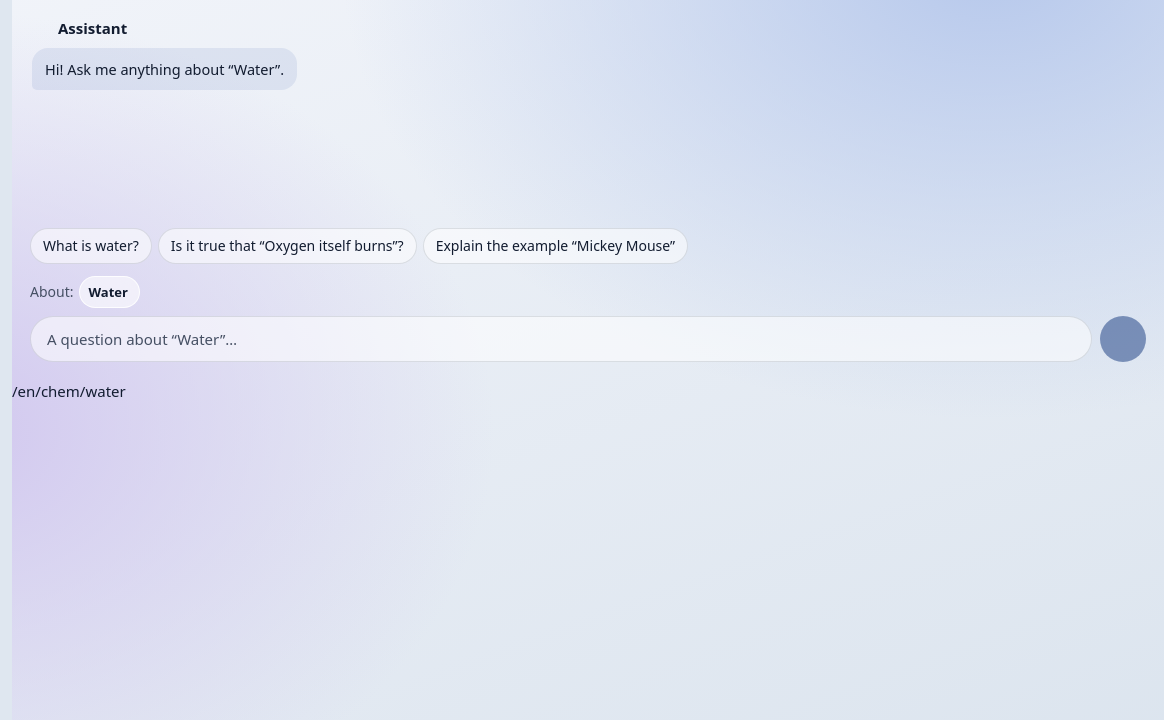
Test: AssistantPanel (W-32) › greets, offers suggestions, streams an SSE answer and highlights cited structures in 3D
The image size is (1164, 720).
Expected: the text "Hi! Ask me anything about “Water”." is shown, [32, 48, 297, 90]
Expected: the button "What is water?" is shown, [30, 228, 152, 264]
In the field named "Question for the assistant": {"x": 561, "y": 339} [30, 316, 1092, 362], type "What is oxygen?"
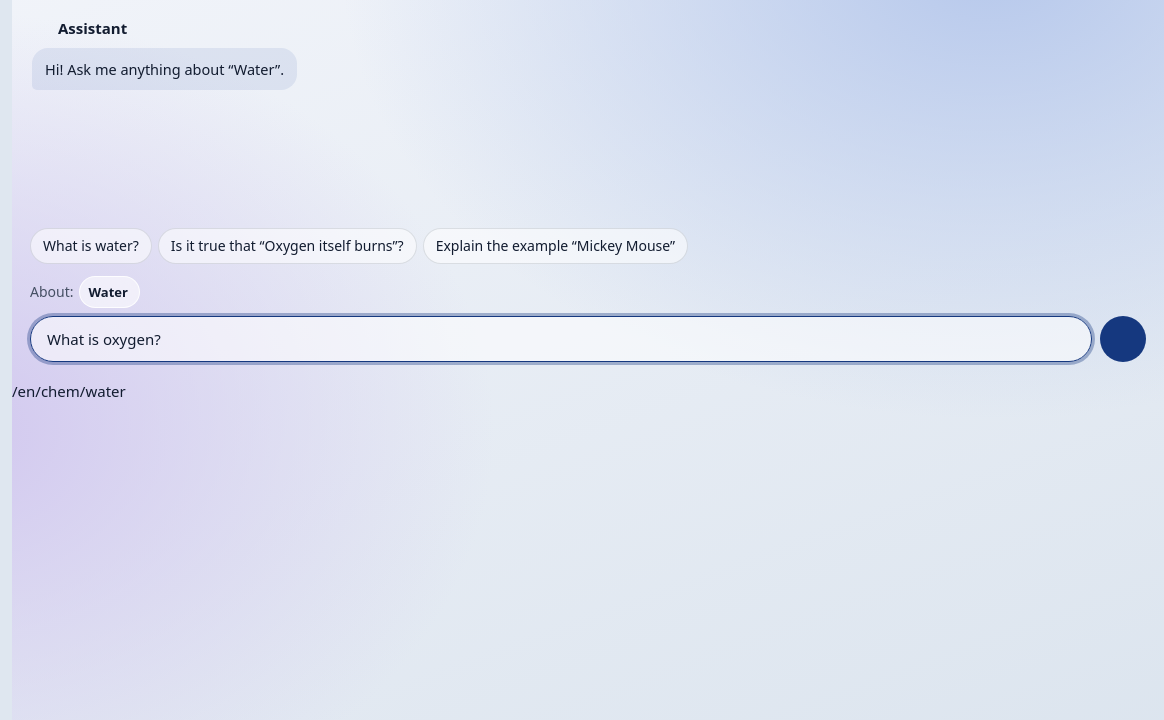
Click the button named "Send": {"x": 1123, "y": 339} [1100, 316, 1146, 362]
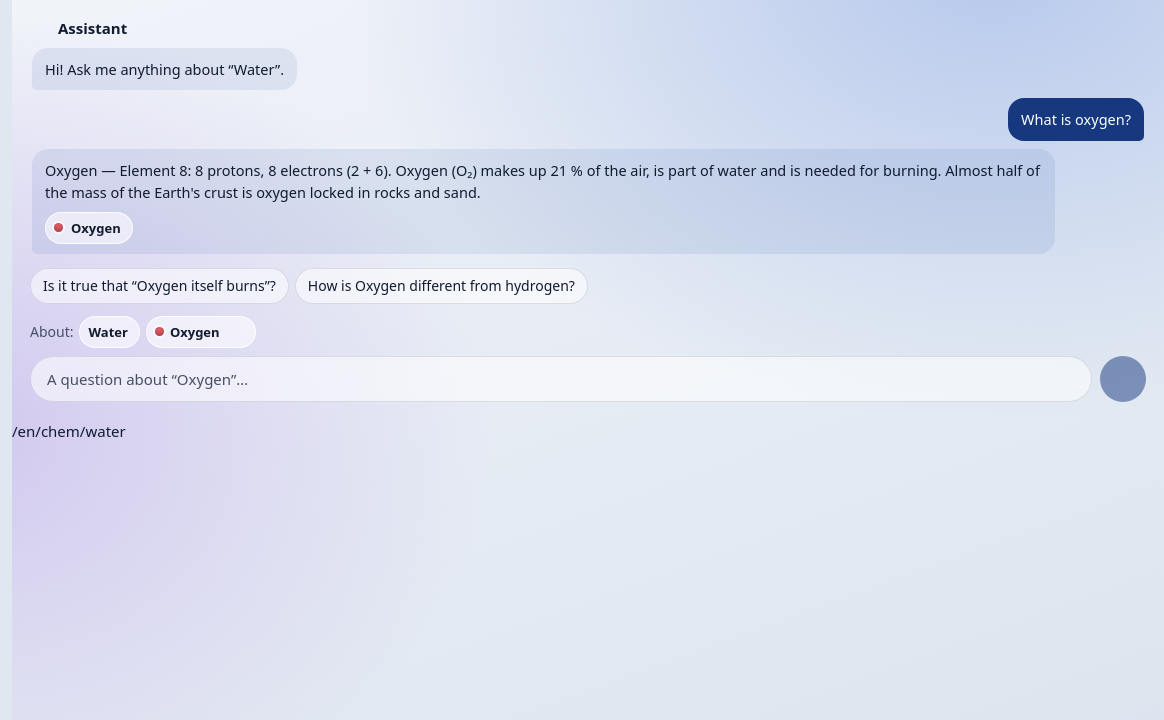
Now the button with aria-label "Show on the model: Oxygen" is shown, box [45, 212, 133, 244]
